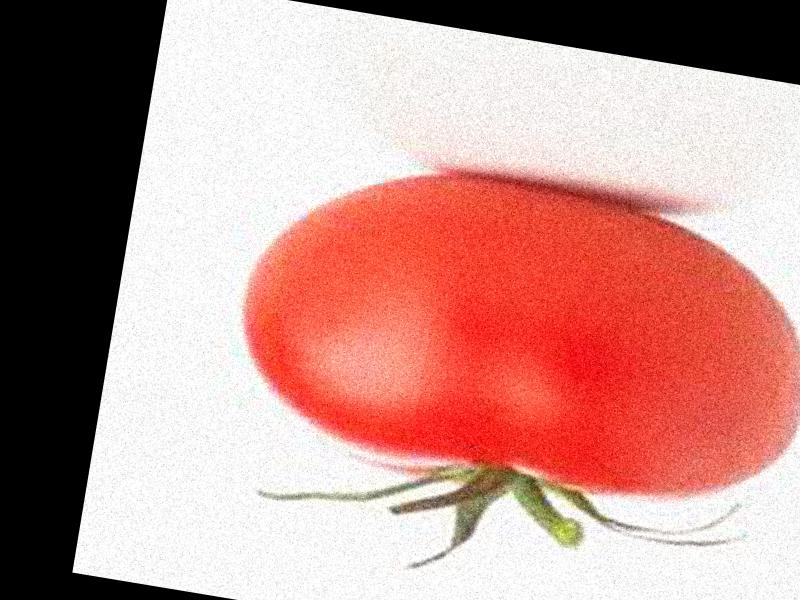Tomato: (222, 142, 800, 525)
